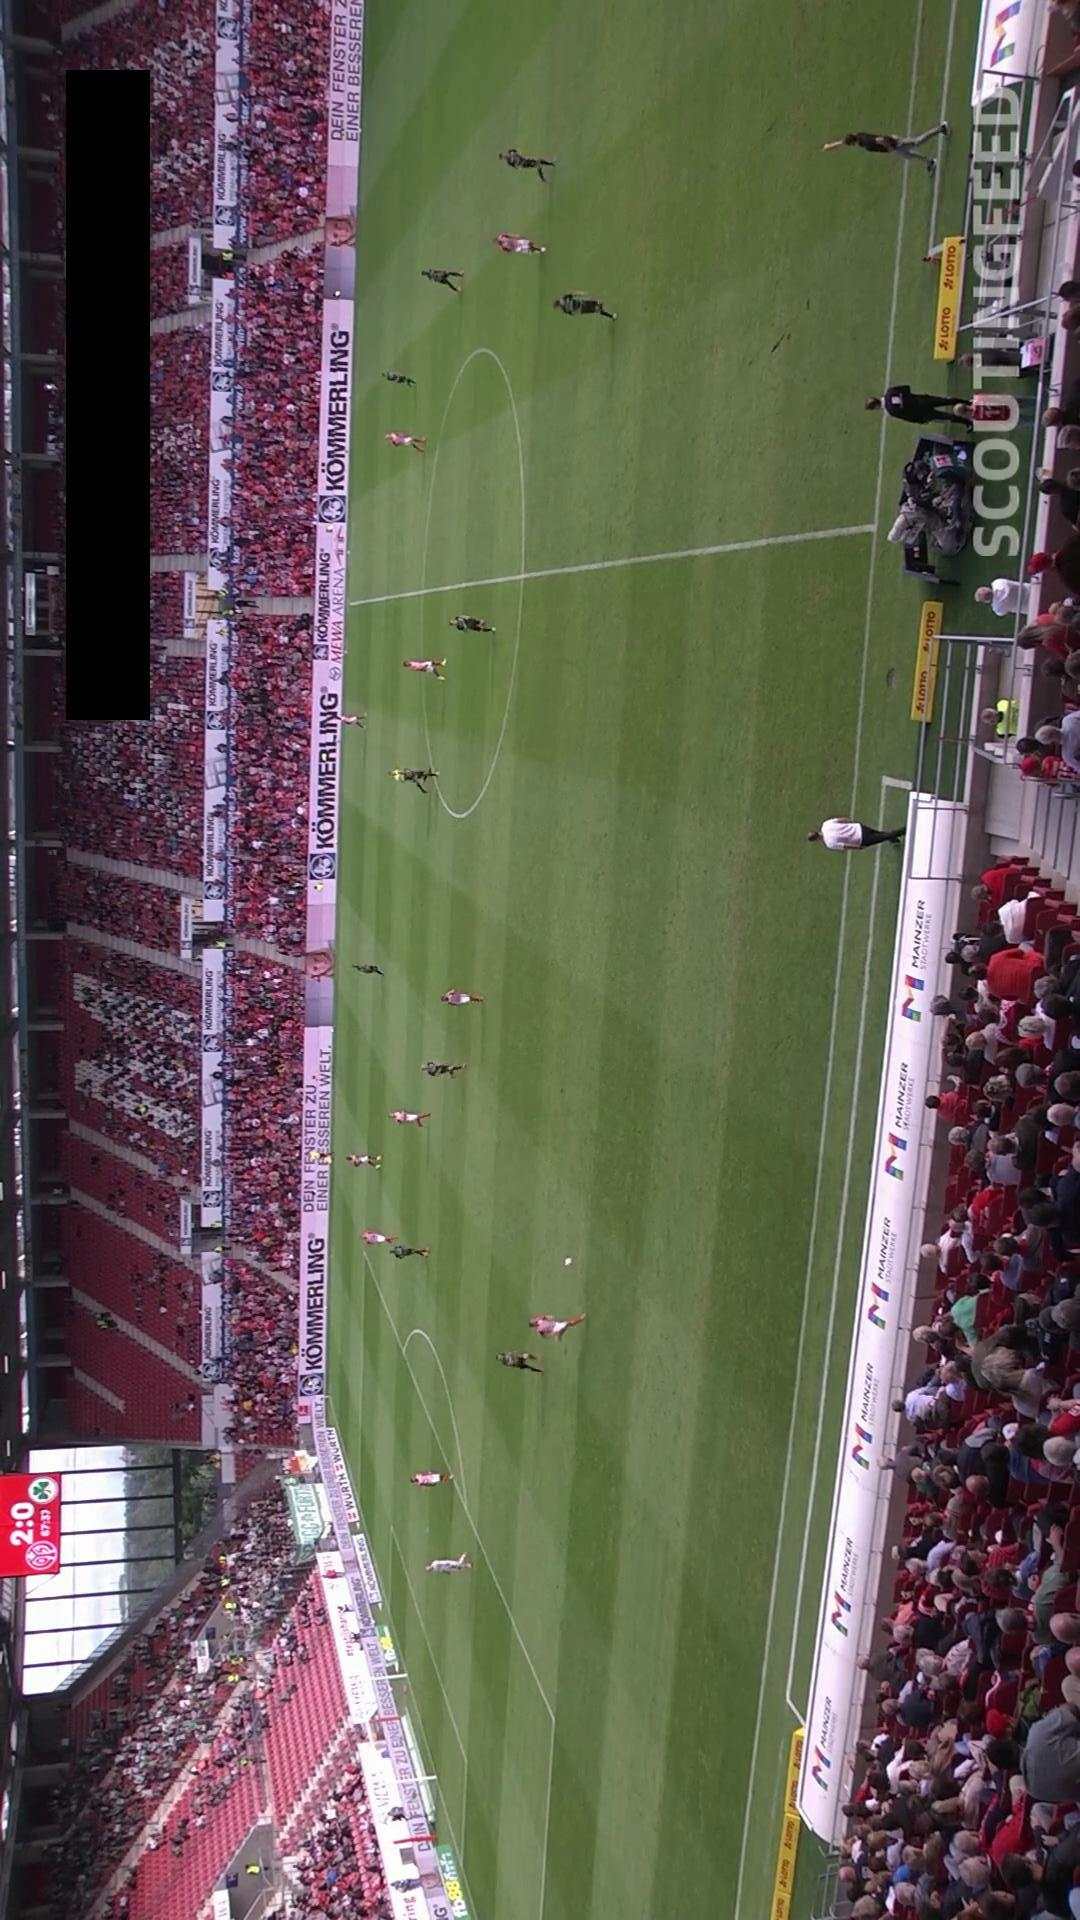ball: (563, 1257, 574, 1267)
goalkeeper: (423, 1551, 473, 1574)
player: (497, 148, 556, 182), (552, 292, 618, 320), (527, 1313, 586, 1341), (492, 233, 548, 255), (494, 1351, 545, 1374), (420, 268, 464, 294), (401, 658, 447, 681), (384, 430, 426, 454), (447, 615, 496, 634), (387, 1109, 432, 1127), (419, 1060, 465, 1077), (439, 989, 484, 1006), (409, 1471, 455, 1486), (388, 1244, 430, 1260), (345, 1152, 383, 1169), (398, 767, 439, 782), (359, 1230, 398, 1245), (381, 371, 416, 387), (336, 713, 367, 729), (351, 963, 384, 976)
referee: (386, 767, 432, 795), (305, 1150, 336, 1165)
